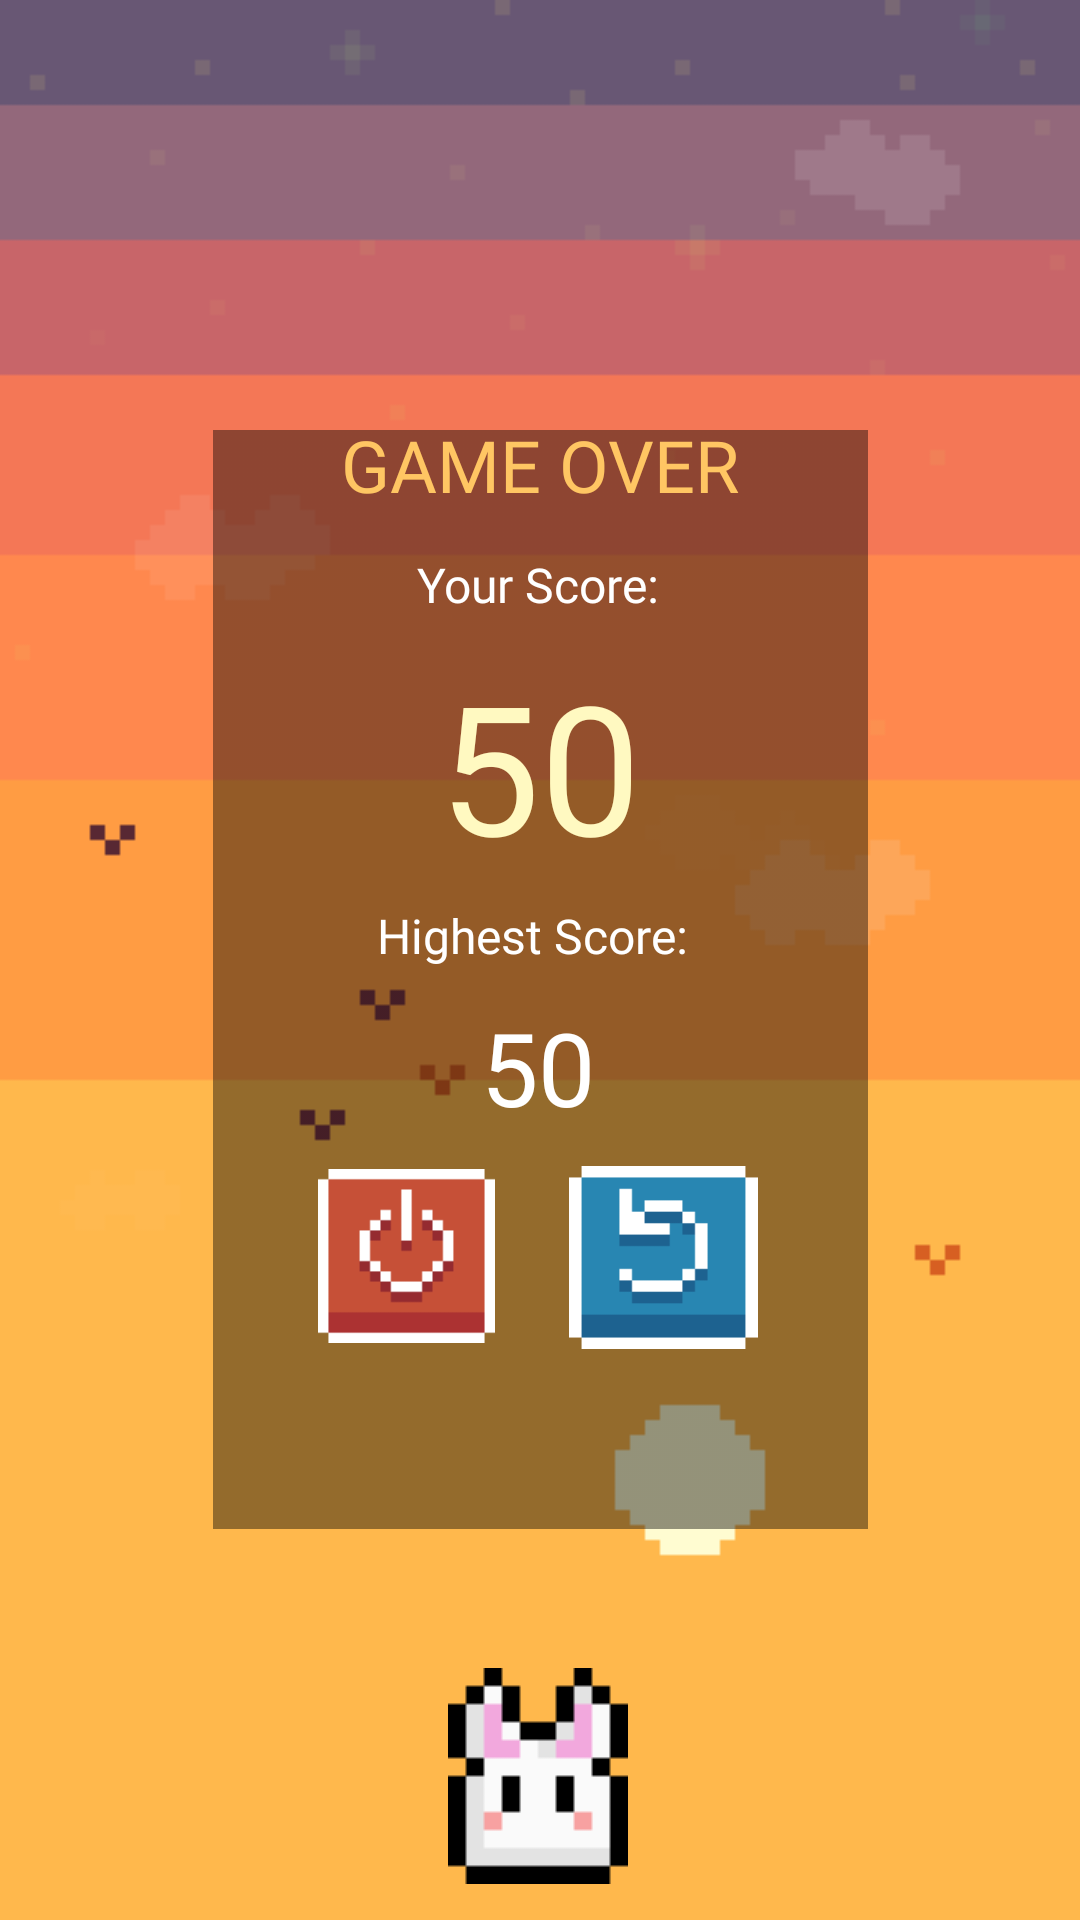

Where to tap for icons on this 1080x1920 app screen, as point (x, y):
bunny: point (538, 1776)
